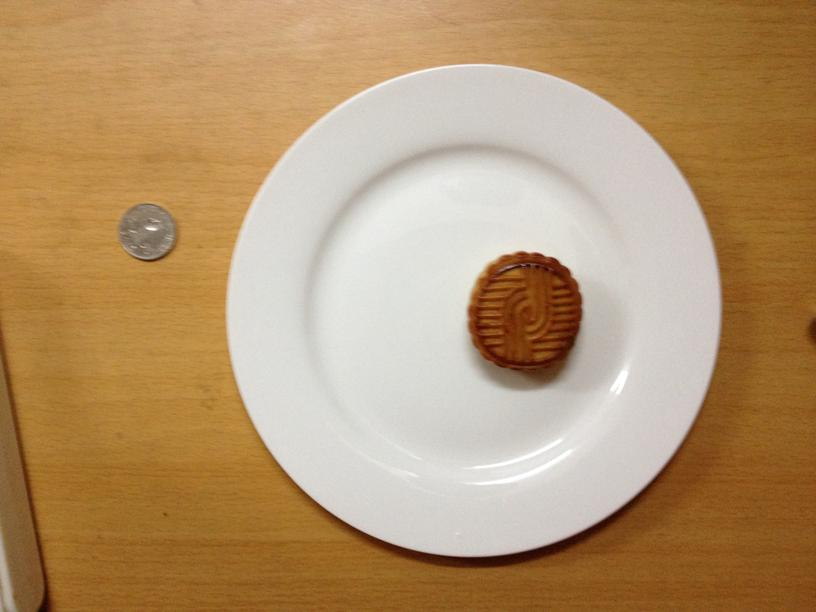coin: (115, 201, 176, 261)
mooncake: (466, 249, 582, 371)
